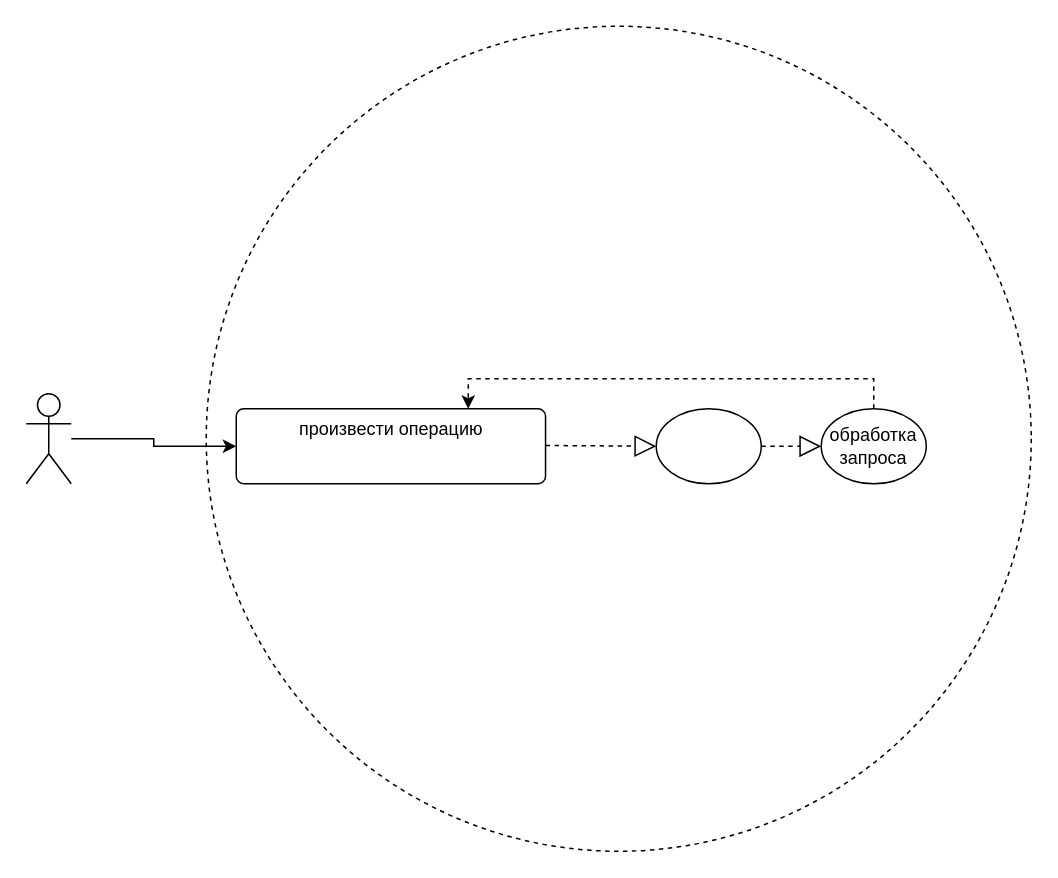
Some shapes in this 1058 by 878 pixel diagram are drawn without their labels. The centre of each missing label's shape, as x and y in pixels:
"Actor" goes at (x=48, y=438).
"отправка запроса на сервер" goes at (x=708, y=445).
